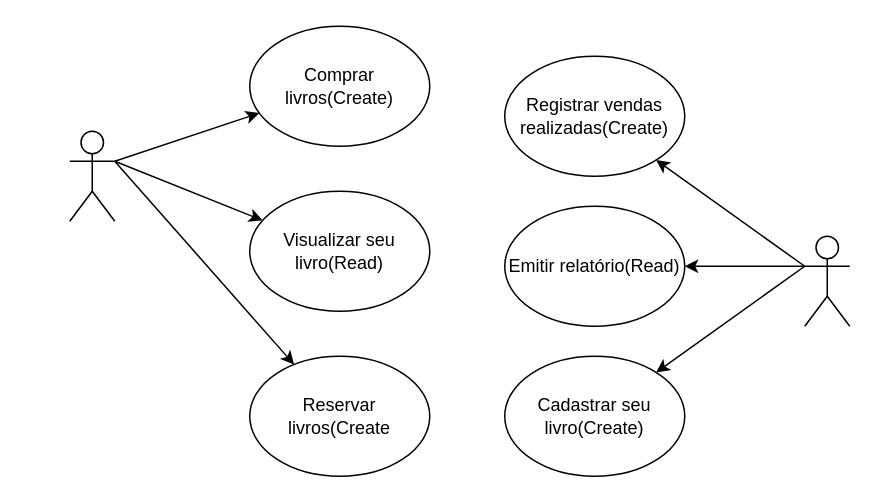
The diagram is 879 pixels wide and 503 high, and some of its shapes have lost their labels. The centre of each missing label's shape, as x and y in pixels:
"Admin" goes at pixel 826 280.
"Usuário(comum)" goes at pixel 91 175.
